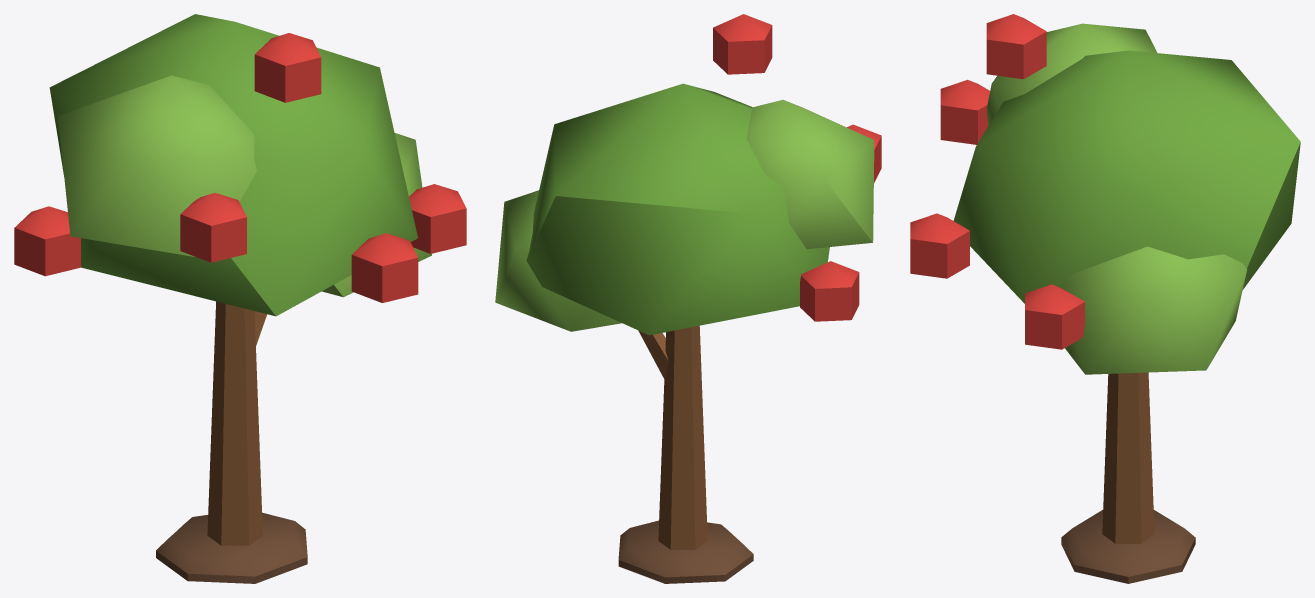
Rendered from apple_tree_ripe.glb.
3 renders of one model, left to right at view 1: azimuth 30°, elevation 25°; view 2: azimuth 150°, elevation 25°; view 3: azimuth 270°, elevation 25°, orthographic. The views are drawn at different scales.
Parts seen in each view (by area): view 1: apple_tree_ripe; view 2: apple_tree_ripe; view 3: apple_tree_ripe.
Part boxes in pixels (x1,y1,x2,y2): apple_tree_ripe: (14, 14, 466, 583); apple_tree_ripe: (495, 14, 881, 583); apple_tree_ripe: (910, 14, 1300, 583).
Size of the model in its own units: 1.12 by 1.54 by 1.02.
1 material, 1 textured.
